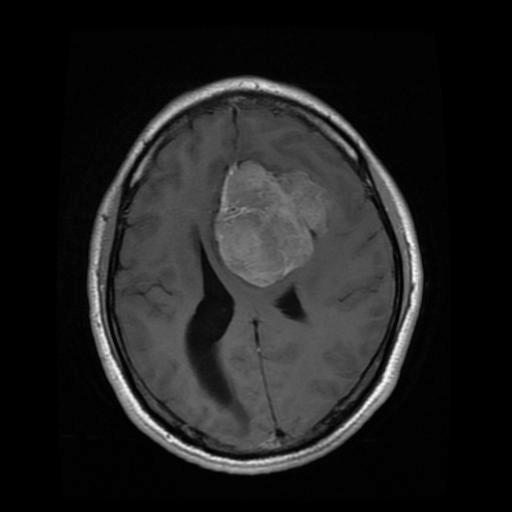Tumour-Meningioma: (195, 154, 352, 331)
